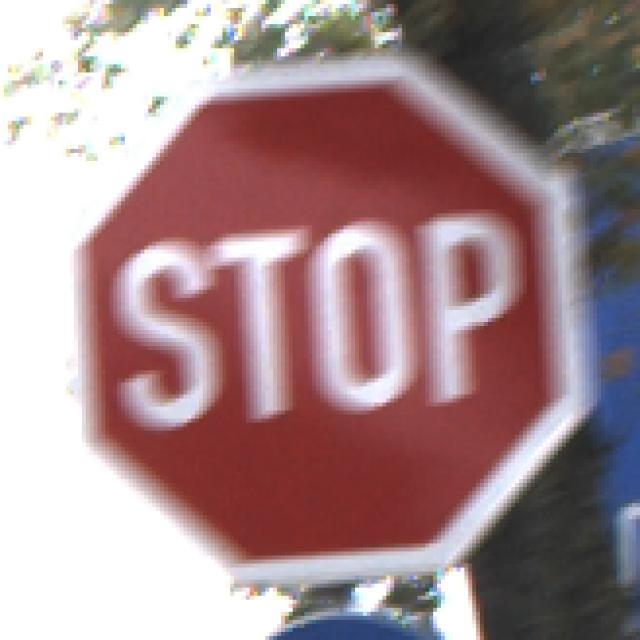STOP: (60, 57, 587, 589)
